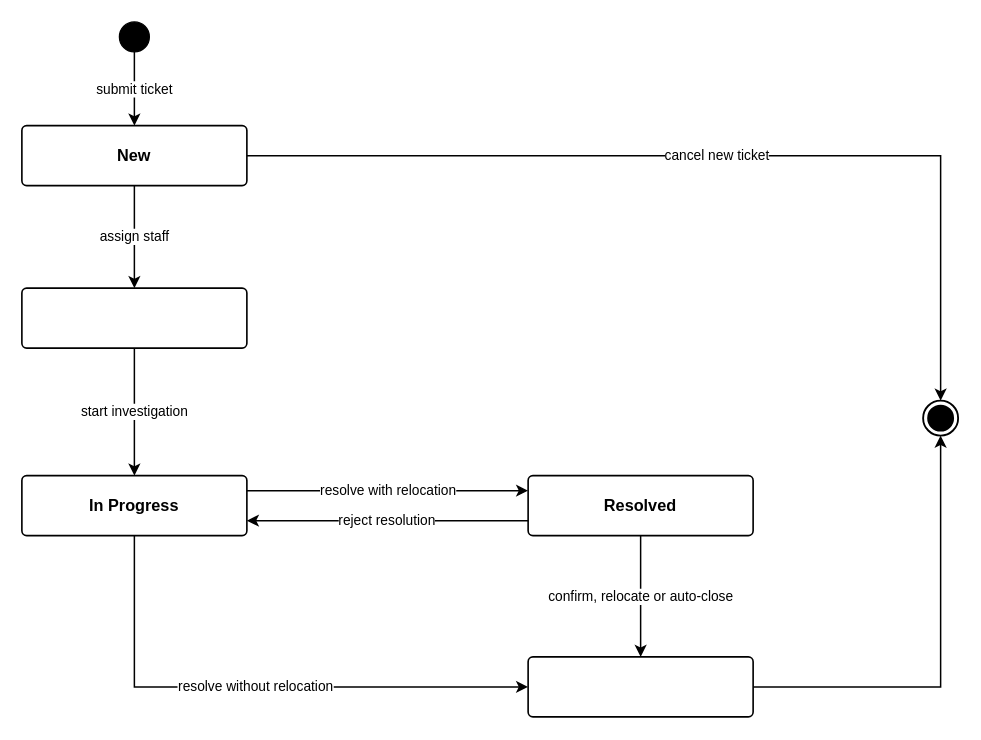
Some shapes in this 981 by 740 pixel diagram are drawn without their labels. The shapes that lost their labels are listed below. From the top down, each one's centre as x and y in pixels, then its label:
the point at 133,317: Assigned
the point at 640,686: Closed
